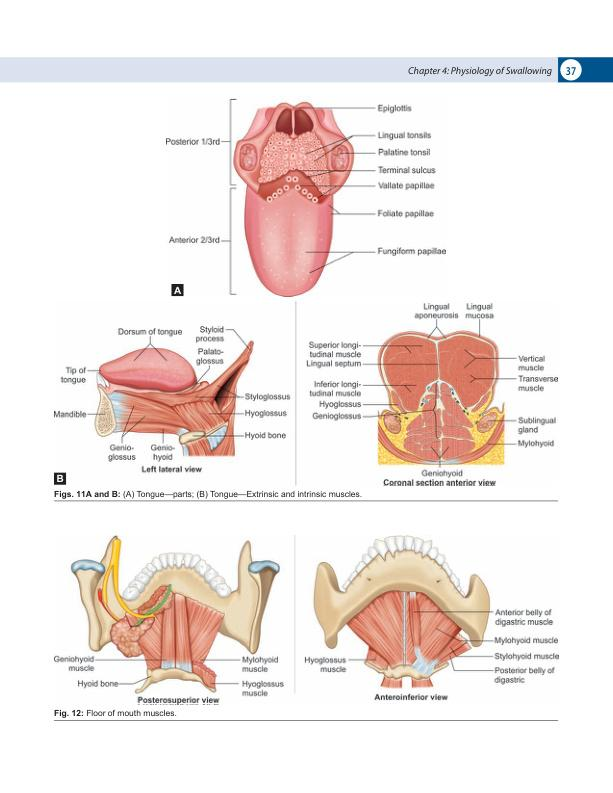caption: (53, 490, 363, 500), (53, 709, 177, 719), (55, 474, 65, 484), (173, 285, 182, 295)
header: (407, 65, 553, 77)
image: (156, 88, 458, 300), (300, 300, 564, 488), (298, 528, 564, 707), (45, 528, 292, 706), (51, 307, 294, 487)
